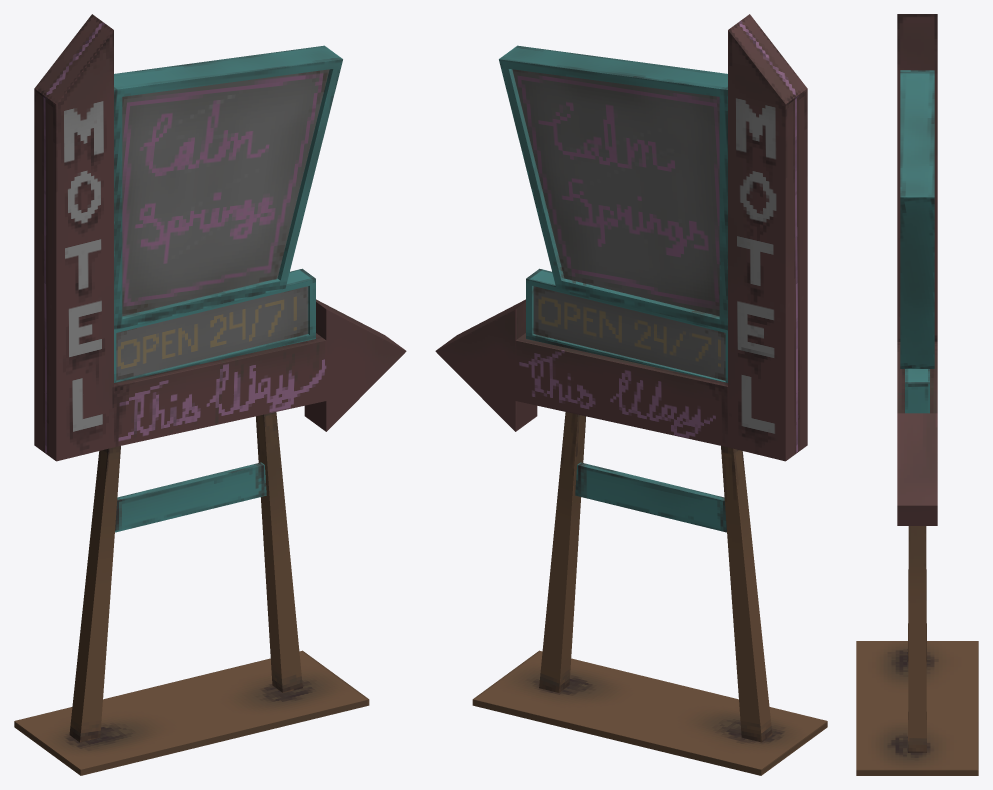
The model's file is motelsign.fbx.
The picture shows the model from 3 angles, left to right: view 1: azimuth 30°, elevation 25°; view 2: azimuth 150°, elevation 25°; view 3: azimuth 270°, elevation 25°; orthographic projection. The views are drawn at different scales.
Visible parts, largest first — view 1: pCube36, pCube34, pCube38, pCube35, pCube37, pCube39, pCube40; view 2: pCube36, pCube34, pCube38, pCube35, pCube37, pCube39, pCube40; view 3: pCube38, pCube34, pCube36, pCube39, pCube35, pCube37.
Boxes of the visible parts, x1,y1,x2,y2 form: pCube36: (34,14,406,461); pCube34: (114,45,342,330); pCube38: (14,650,369,775); pCube35: (114,268,315,382); pCube37: (69,446,120,742); pCube39: (256,412,302,692); pCube40: (115,462,266,532); pCube36: (435,14,807,461); pCube34: (499,45,727,330); pCube38: (472,650,827,775); pCube35: (526,268,727,382); pCube37: (721,446,772,742); pCube39: (539,412,585,692); pCube40: (575,462,726,532); pCube38: (856,641,978,775); pCube34: (900,70,934,368); pCube36: (897,14,937,525); pCube39: (908,526,926,752); pCube35: (905,369,929,413); pCube37: (908,526,926,661).
Bounding box in the file's own units: 6.07 × 11.85 × 2.
